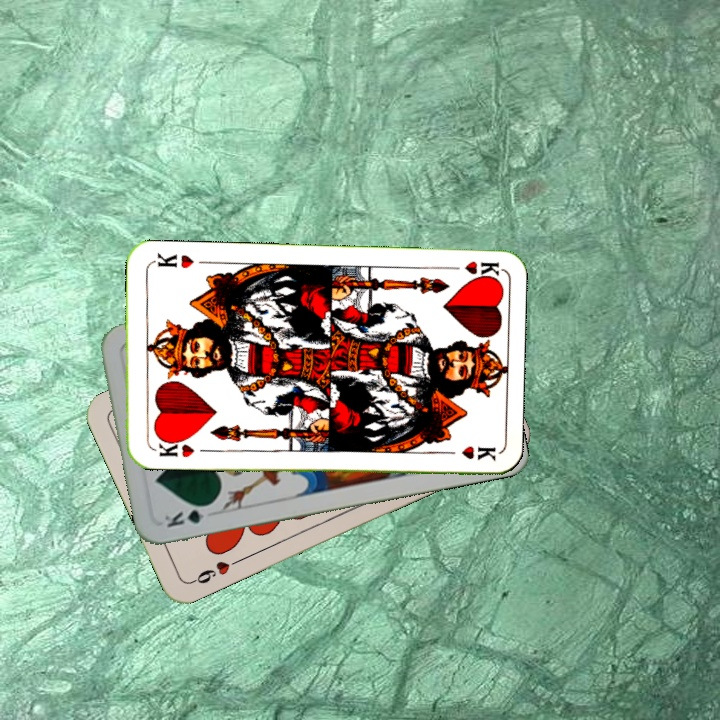GK: (160, 500, 216, 530)
H9: (186, 555, 242, 587)
HK: (441, 256, 500, 283), (147, 434, 197, 460)
